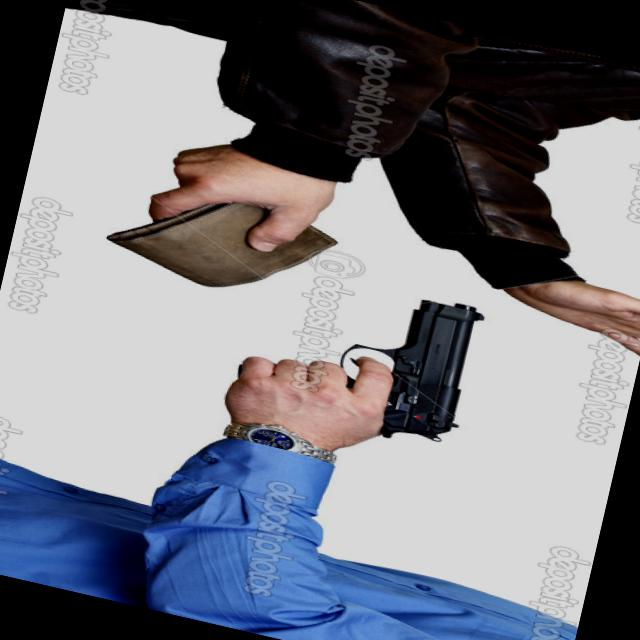handgun: (212, 252, 495, 466)
